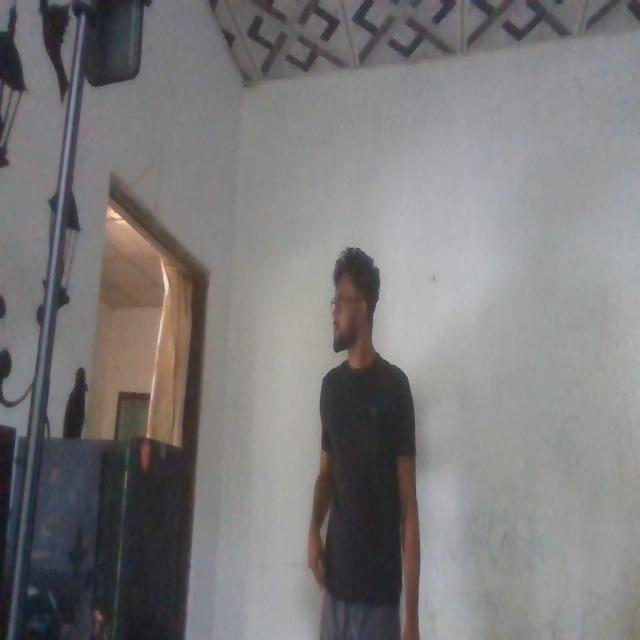Person: (300, 243, 423, 640)
